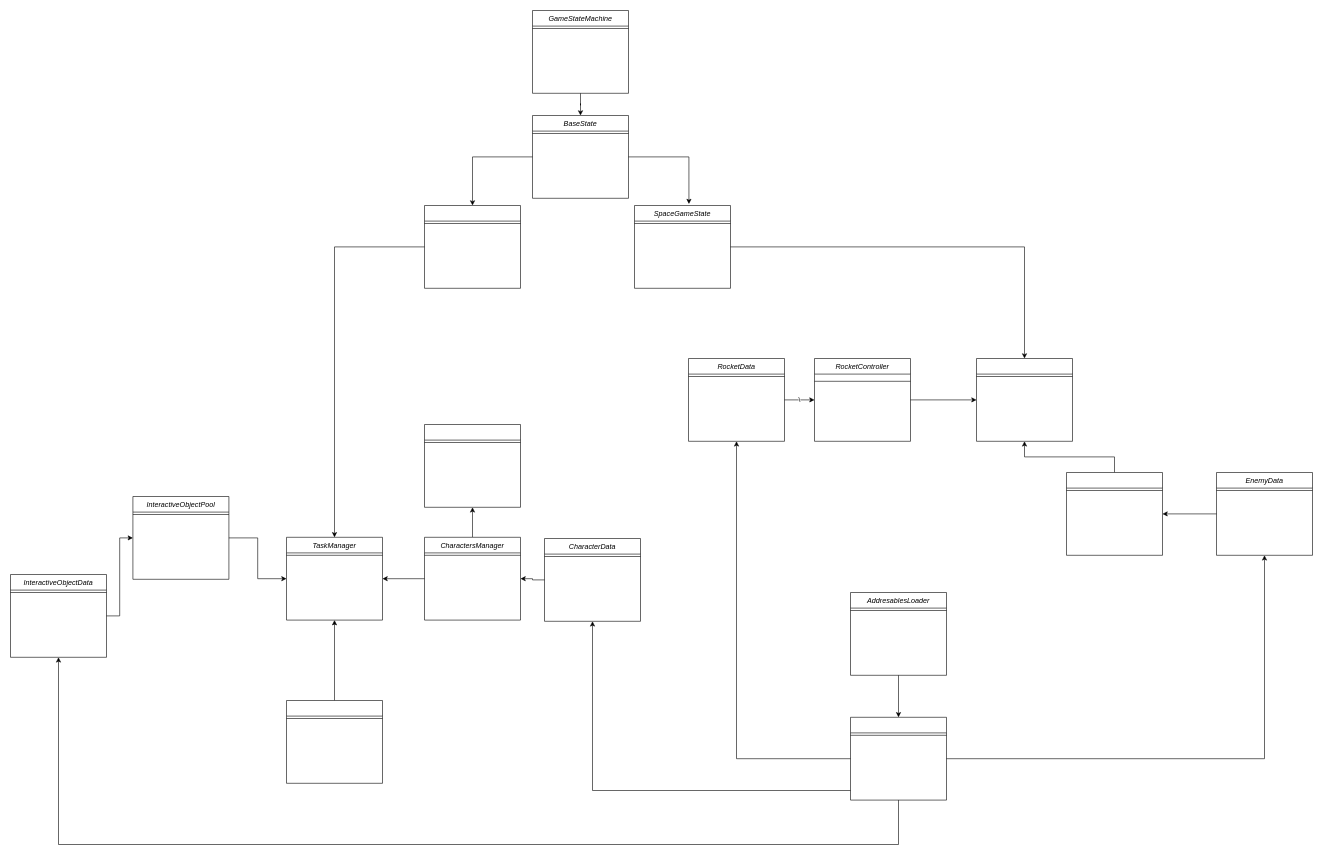
Image size: 1323x860. Some labels were removed from this diagram. Here are the shapes that lost their labels. From the top down, the centre of each, then its label:
At (472,246): "PreparationState".
At (1024,399): "SpaceGameManager".
At (472,465): "CharacterController".
At (1114,513): "EnemysManager".
At (334,741): "RocketManager".
At (898,758): "AddresablesController".
